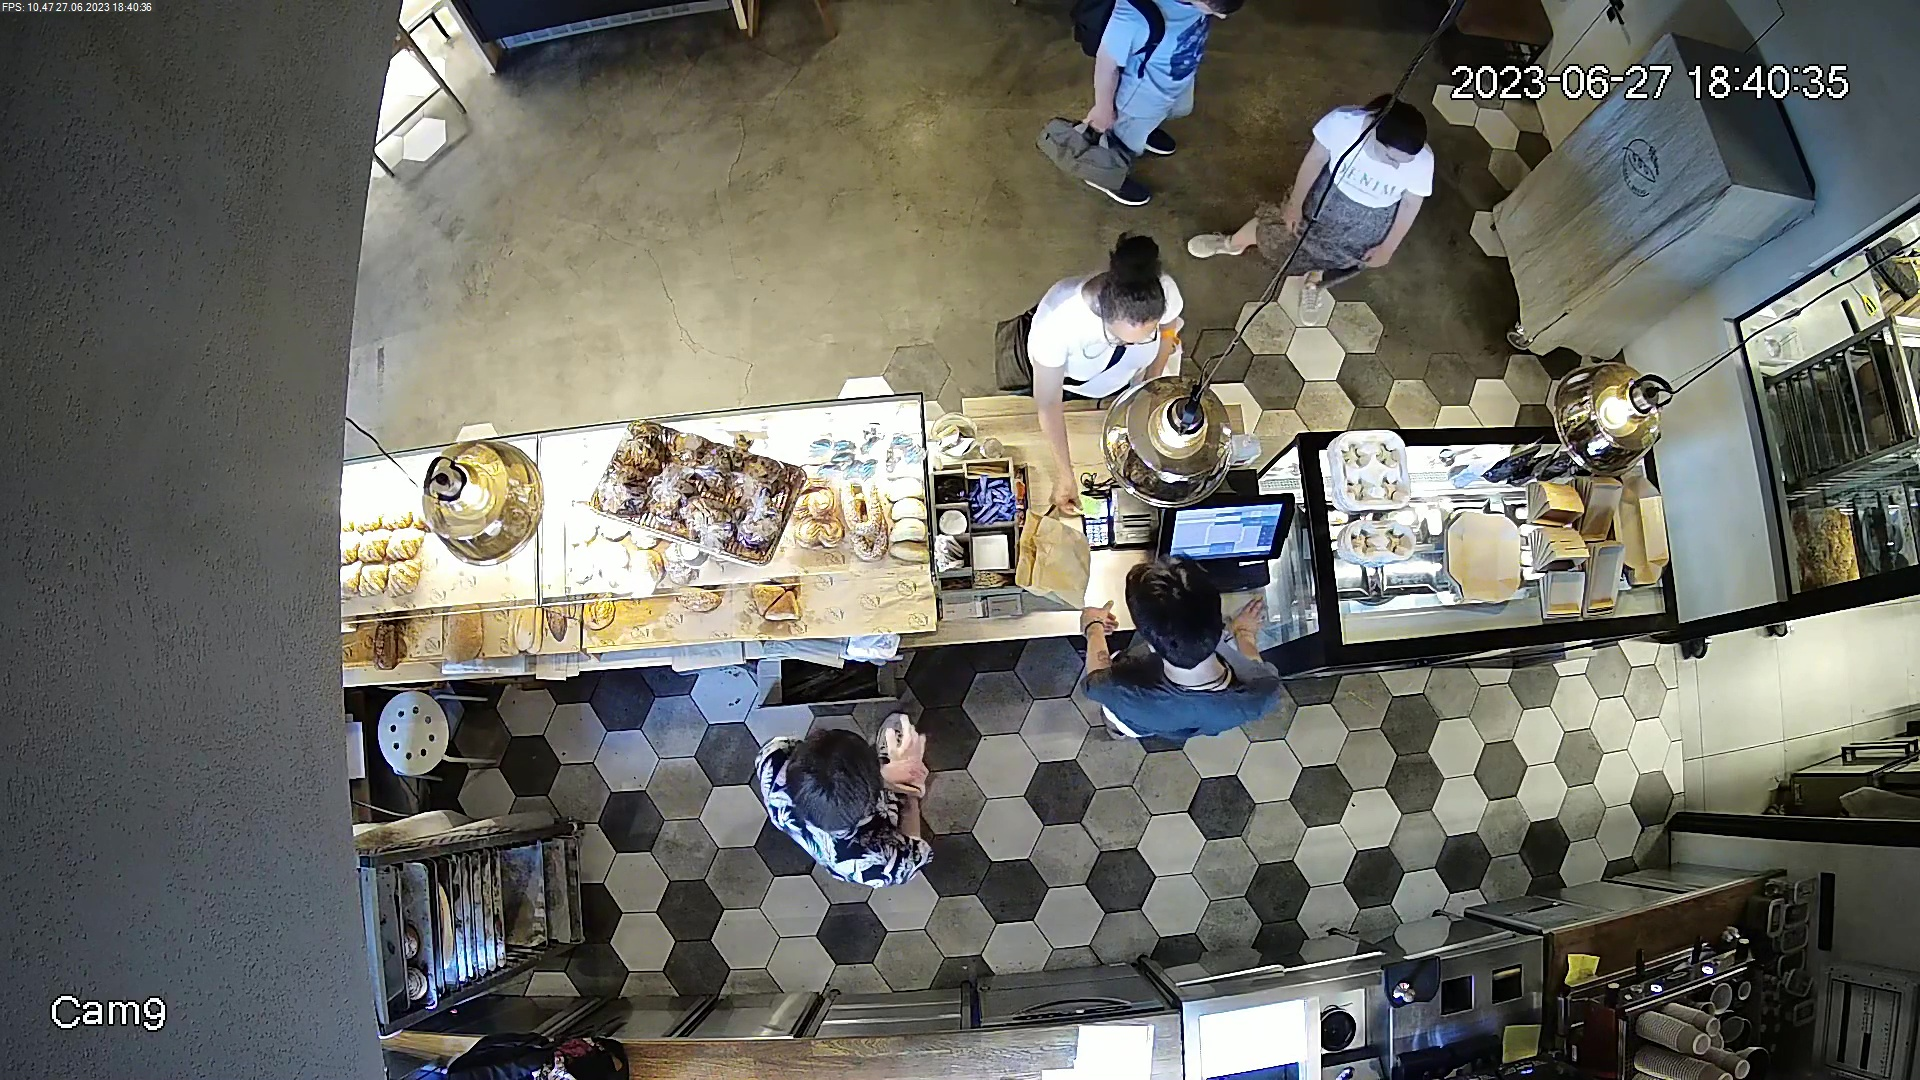barcounter: (354, 431, 1675, 682)
pack: (1002, 513, 1100, 615)
person: (1191, 101, 1459, 362), (1056, 552, 1323, 773), (722, 694, 959, 895), (1001, 238, 1214, 434)
terminal: (1060, 455, 1111, 549)
